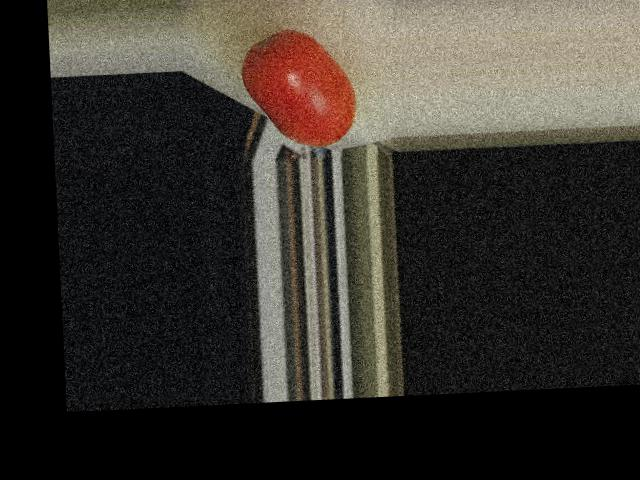tomato: (239, 27, 357, 150)
